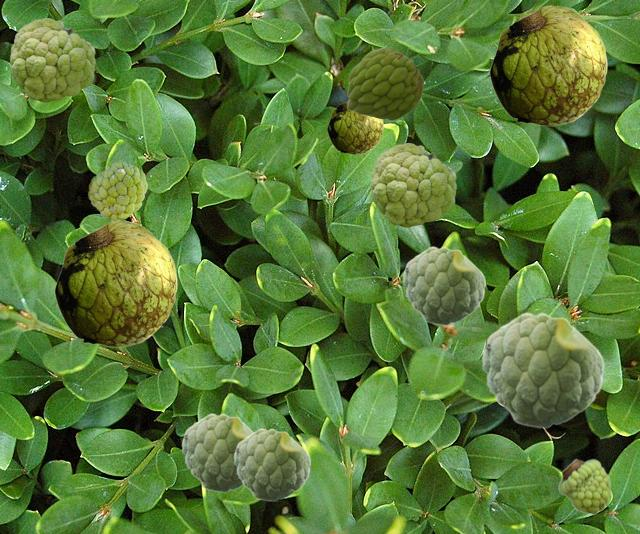atis: (54, 220, 176, 346), (481, 312, 604, 427), (489, 5, 606, 125), (371, 143, 455, 226), (10, 18, 94, 101), (402, 246, 485, 324), (181, 413, 253, 491), (233, 428, 310, 500), (347, 47, 422, 119), (88, 162, 146, 218), (327, 100, 382, 153), (558, 458, 610, 514)
